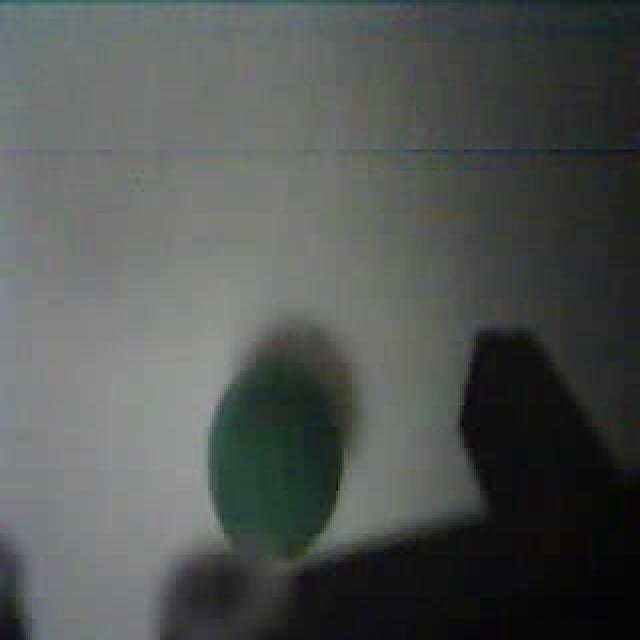green_ball: (202, 315, 360, 568)
